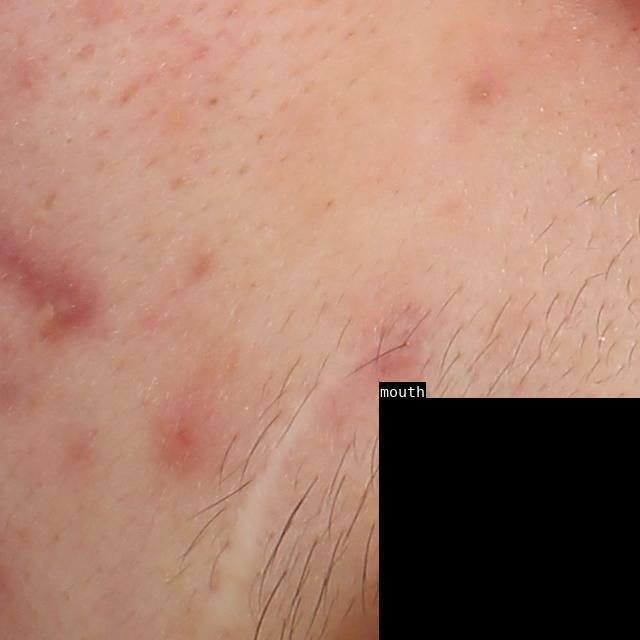atrophic_scar: (9, 268, 95, 345)
comedo: (574, 149, 597, 178)
